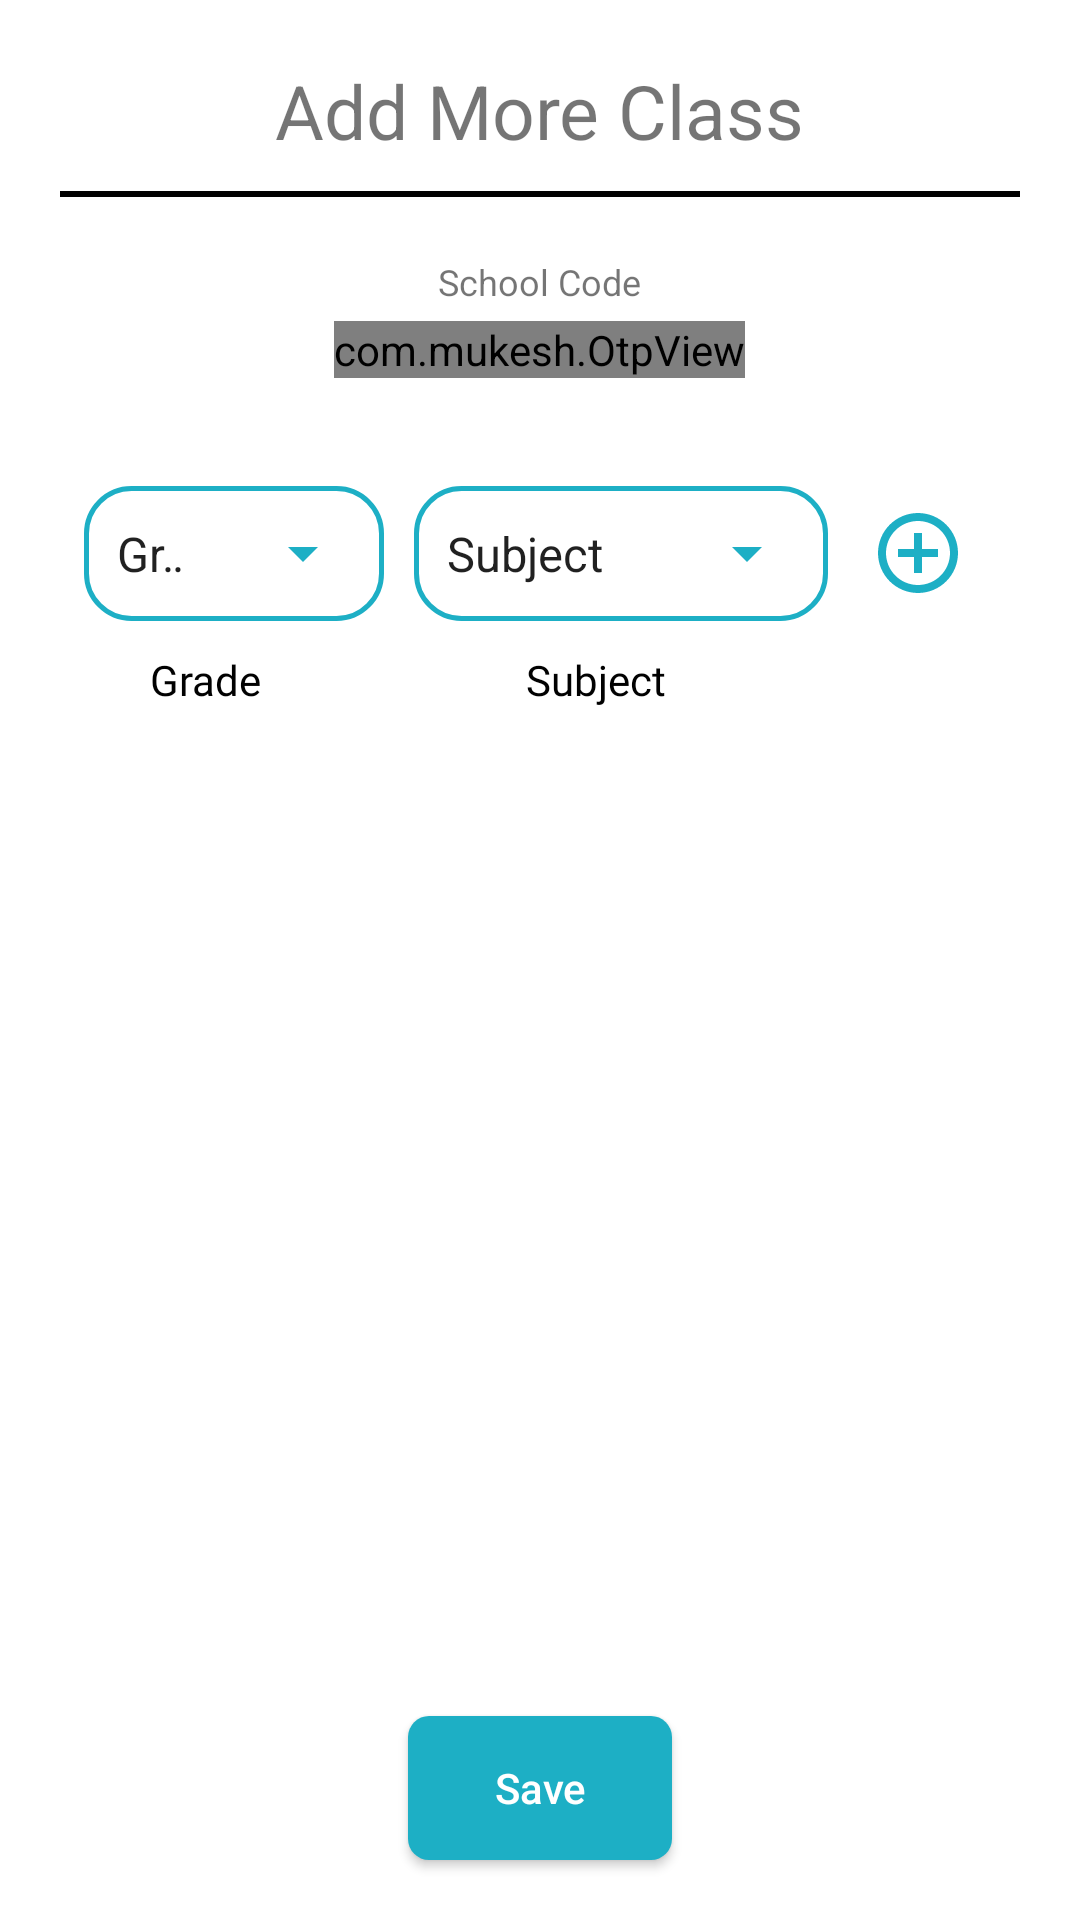

Icon click points for this 1080 x 1920 phone screenshot, format [x,y]:
add circle: [918,553]
